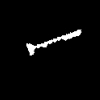half_double_crochet: (27, 30, 80, 54)
